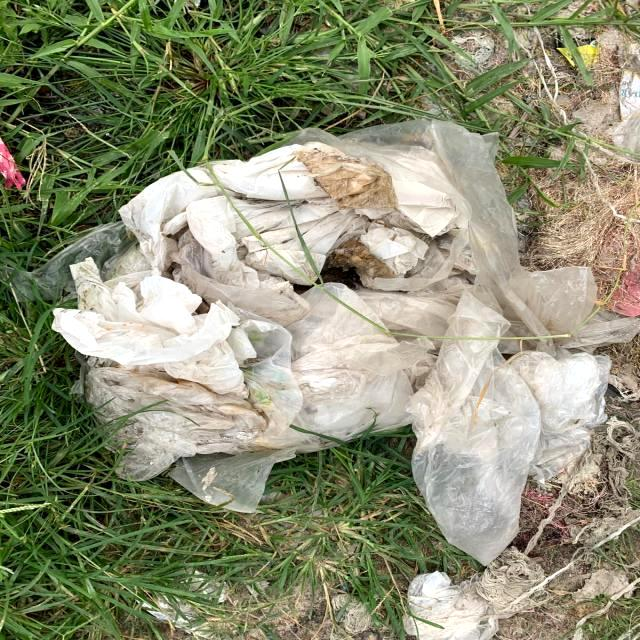polythene: (34, 141, 618, 562)
